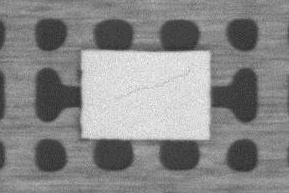DIE_CRACK: (116, 66, 192, 99)
